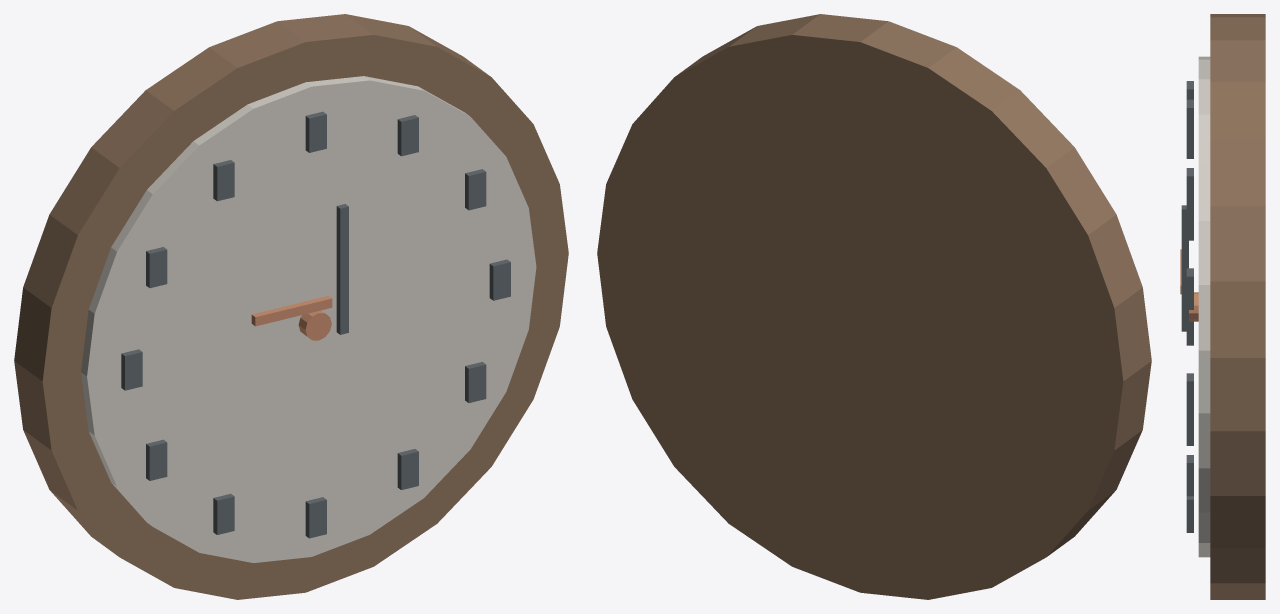
Rendered from arte_relogio_cozinha2.glb.
3 views of the same model, side by side, from view 1: azimuth 30°, elevation 25°; view 2: azimuth 150°, elevation 25°; view 3: azimuth 270°, elevation 25° (orthographic). The views are drawn at different scales.
Visible parts, largest first — view 1: ARTE_RelogioCozinha2_Face, ARTE_RelogioCozinha2_Moldura, ARTE_RelogioCozinha2_PonteiroMin, ARTE_RelogioCozinha2_PonteiroHora, ARTE_RelogioCozinha2_Marca01, ARTE_RelogioCozinha2_Marca09, ARTE_RelogioCozinha2_Marca07, ARTE_RelogioCozinha2_Marca08, ARTE_RelogioCozinha2_Marca03, ARTE_RelogioCozinha2_Marca02, ARTE_RelogioCozinha2_Marca06, ARTE_RelogioCozinha2_Marca10 (+5 smaller); view 2: ARTE_RelogioCozinha2_Moldura; view 3: ARTE_RelogioCozinha2_Moldura, ARTE_RelogioCozinha2_Face, ARTE_RelogioCozinha2_PonteiroMin, ARTE_RelogioCozinha2_Marca00, ARTE_RelogioCozinha2_Marca01, ARTE_RelogioCozinha2_Marca02, ARTE_RelogioCozinha2_Marca03, ARTE_RelogioCozinha2_Marca04, ARTE_RelogioCozinha2_Marca05, ARTE_RelogioCozinha2_Marca07, ARTE_RelogioCozinha2_Pino, ARTE_RelogioCozinha2_Marca08 (+3 smaller).
Boxes of the visible parts, <box> form: ARTE_RelogioCozinha2_Face: <box>81,76,536,562</box>; ARTE_RelogioCozinha2_Moldura: <box>14,14,568,599</box>; ARTE_RelogioCozinha2_PonteiroMin: <box>336,204,348,334</box>; ARTE_RelogioCozinha2_PonteiroHora: <box>251,296,332,326</box>; ARTE_RelogioCozinha2_Marca01: <box>397,115,418,156</box>; ARTE_RelogioCozinha2_Marca09: <box>121,349,142,390</box>; ARTE_RelogioCozinha2_Marca07: <box>213,493,234,534</box>; ARTE_RelogioCozinha2_Marca08: <box>146,439,167,480</box>; ARTE_RelogioCozinha2_Marca03: <box>489,259,510,300</box>; ARTE_RelogioCozinha2_Marca02: <box>465,169,486,210</box>; ARTE_RelogioCozinha2_Marca06: <box>305,497,326,538</box>; ARTE_RelogioCozinha2_Marca10: <box>146,247,167,288</box>; ARTE_RelogioCozinha2_Moldura: <box>597,14,1151,599</box>; ARTE_RelogioCozinha2_Moldura: <box>1210,14,1265,599</box>; ARTE_RelogioCozinha2_Face: <box>1198,56,1210,557</box>; ARTE_RelogioCozinha2_PonteiroMin: <box>1181,205,1188,331</box>; ARTE_RelogioCozinha2_Marca00: <box>1186,99,1193,141</box>; ARTE_RelogioCozinha2_Marca01: <box>1186,168,1193,209</box>; ARTE_RelogioCozinha2_Marca02: <box>1186,268,1193,309</box>; ARTE_RelogioCozinha2_Marca03: <box>1186,373,1193,414</box>; ARTE_RelogioCozinha2_Marca04: <box>1186,455,1193,496</box>; ARTE_RelogioCozinha2_Marca05: <box>1186,496,1193,532</box>; ARTE_RelogioCozinha2_Marca07: <box>1186,414,1193,445</box>; ARTE_RelogioCozinha2_Pino: <box>1189,292,1198,321</box>; ARTE_RelogioCozinha2_Marca08: <box>1186,321,1193,345</box>.
Bounding box in the file's own units: 0.48 × 0.48 × 0.0695.
